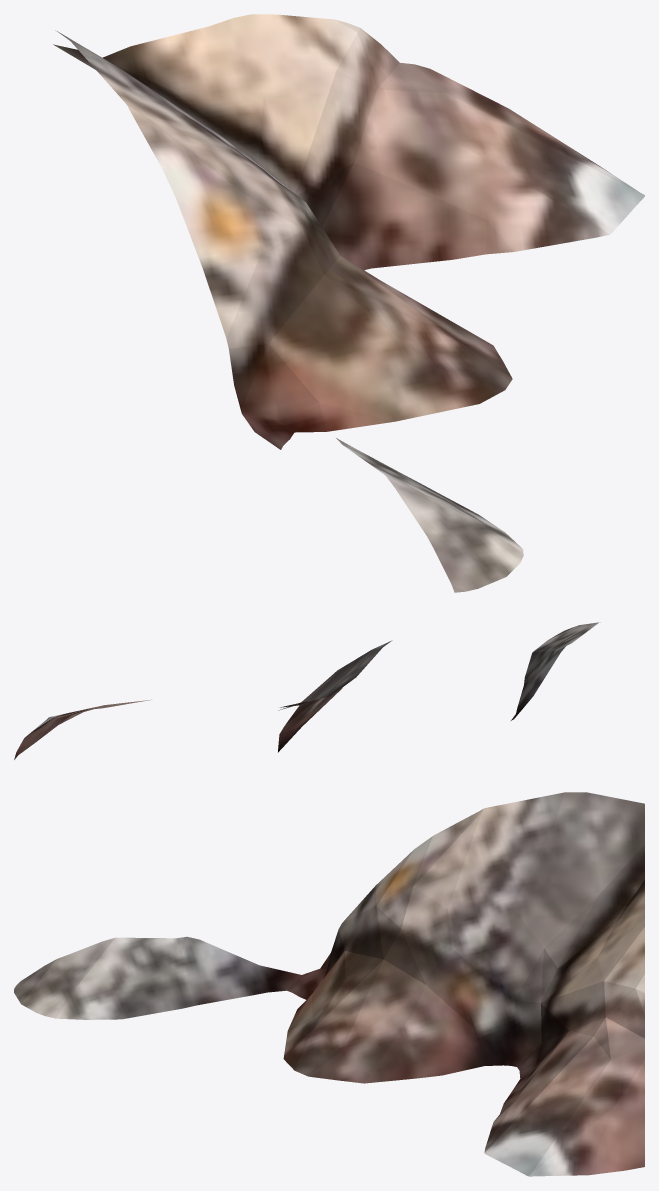
3 renders of one model, top to bottom at view 1: azimuth 30°, elevation 25°; view 2: azimuth 150°, elevation 25°; view 3: azimuth 270°, elevation 25°, orthographic. The views are drawn at different scales.
Bounding box in the file's own units: 0.3094 × 0.1454 × 0.431.
Materials: 1 (1 with a texture image).
